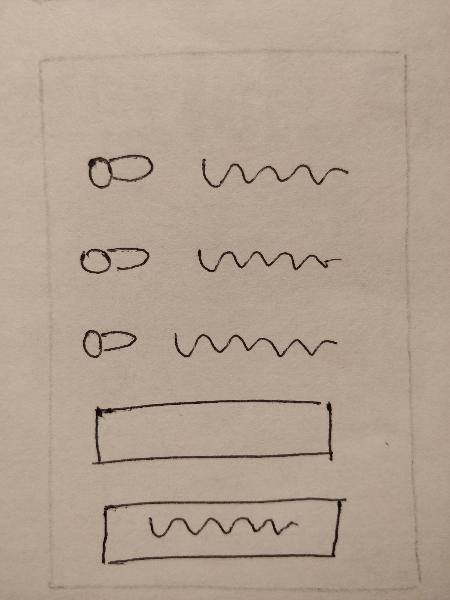switch: (79, 137, 166, 198), (70, 232, 157, 285), (73, 318, 151, 368)
text: (165, 307, 345, 377), (190, 143, 355, 202), (184, 230, 349, 281)
text_input: (79, 387, 342, 473)
